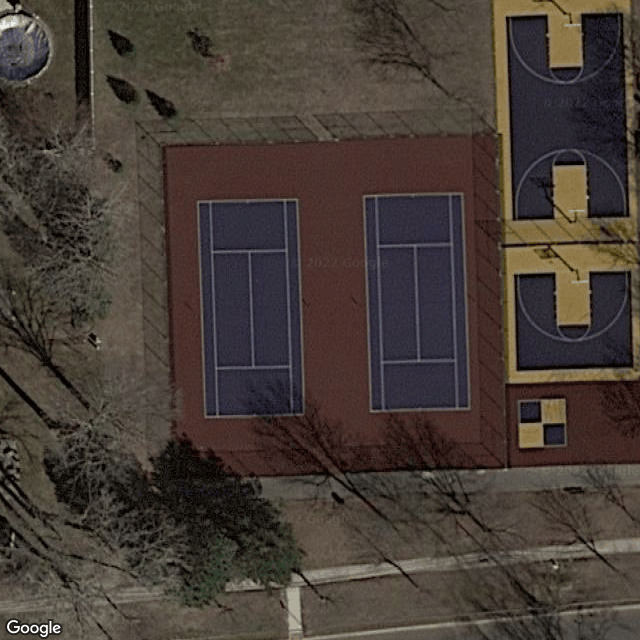Court: (360, 190, 472, 412), (194, 197, 306, 418)
